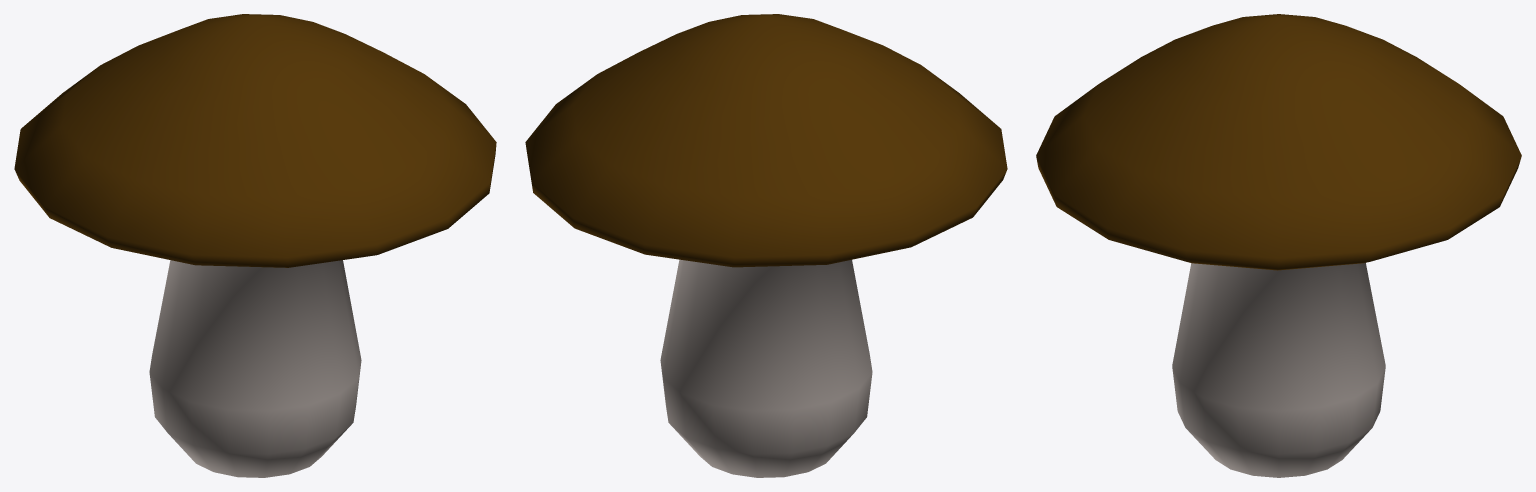
The model's file is mushroomsingle1.fbx.
3 renders of one model, left to right at view 1: azimuth 30°, elevation 25°; view 2: azimuth 150°, elevation 25°; view 3: azimuth 270°, elevation 25°, orthographic.
Parts seen in each view (by area): view 1: BigMushroom; view 2: BigMushroom; view 3: BigMushroom.
Part boxes in pixels (x1,y1,x2,y2): BigMushroom: (14,14,496,477); BigMushroom: (525,14,1007,477); BigMushroom: (1036,14,1521,477).
Bounding box in the file's own units: 229 × 225 × 229.
